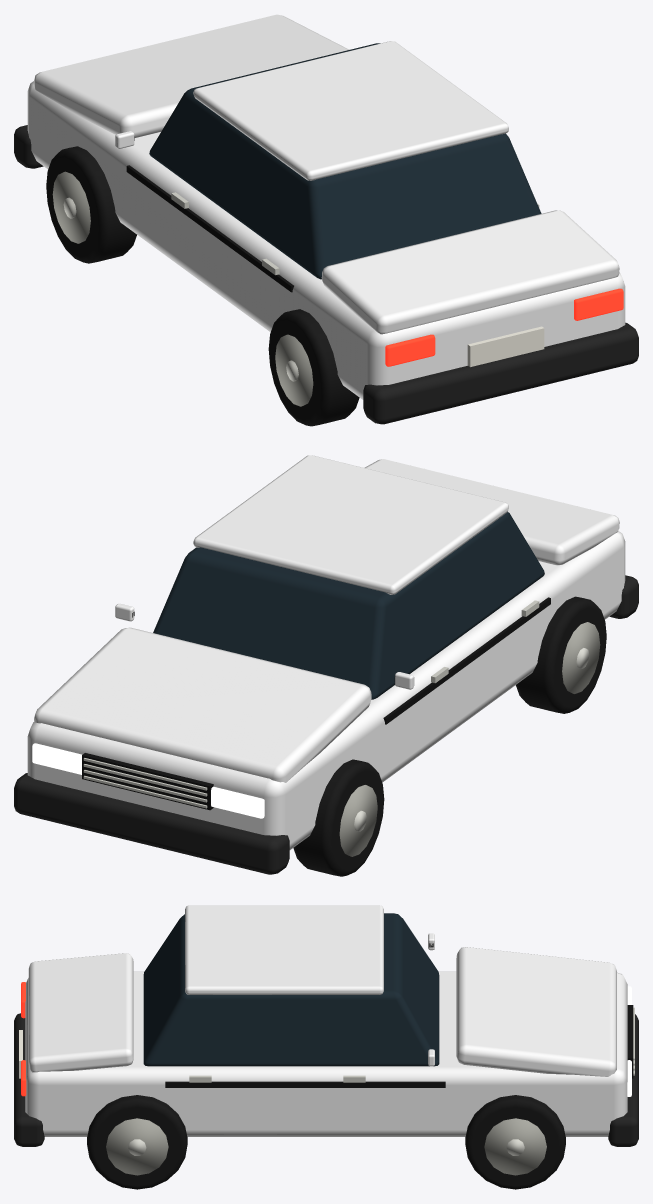
Rendered from car.glb.
The picture shows the model from 3 angles, top to bottom: view 1: azimuth 30°, elevation 25°; view 2: azimuth 150°, elevation 25°; view 3: azimuth 270°, elevation 25°; orthographic projection. The views are drawn at different scales.
Parts seen in each view (by area): view 1: car; view 2: car; view 3: car.
Part boxes in pixels (<box>): car: <box>14,14,638,426</box>; car: <box>14,455,638,876</box>; car: <box>14,905,638,1189</box>.
Bounding box in the file's own units: 2.08 × 1.48 × 4.46.
